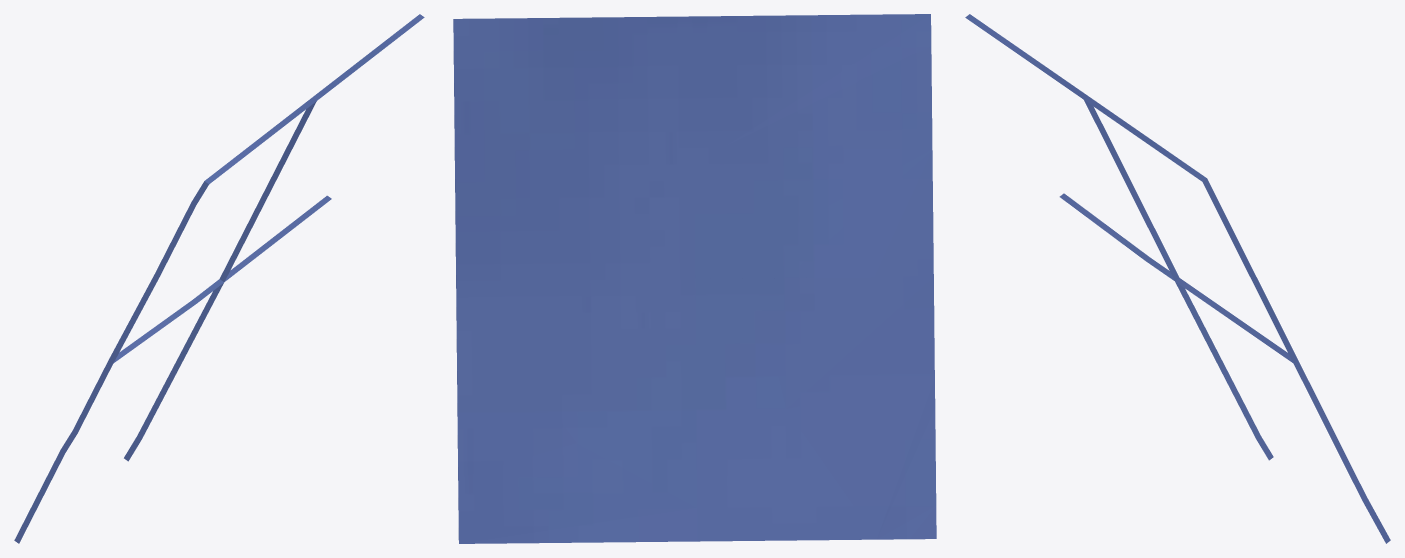
The picture shows the model from 3 angles, left to right: view 1: azimuth 30°, elevation 25°; view 2: azimuth 150°, elevation 25°; view 3: azimuth 270°, elevation 25°; orthographic projection. The views are drawn at different scales.
Size of the model in its own units: 4926 by 4427 by 4148.
Materials: 1 (1 with a texture image).
